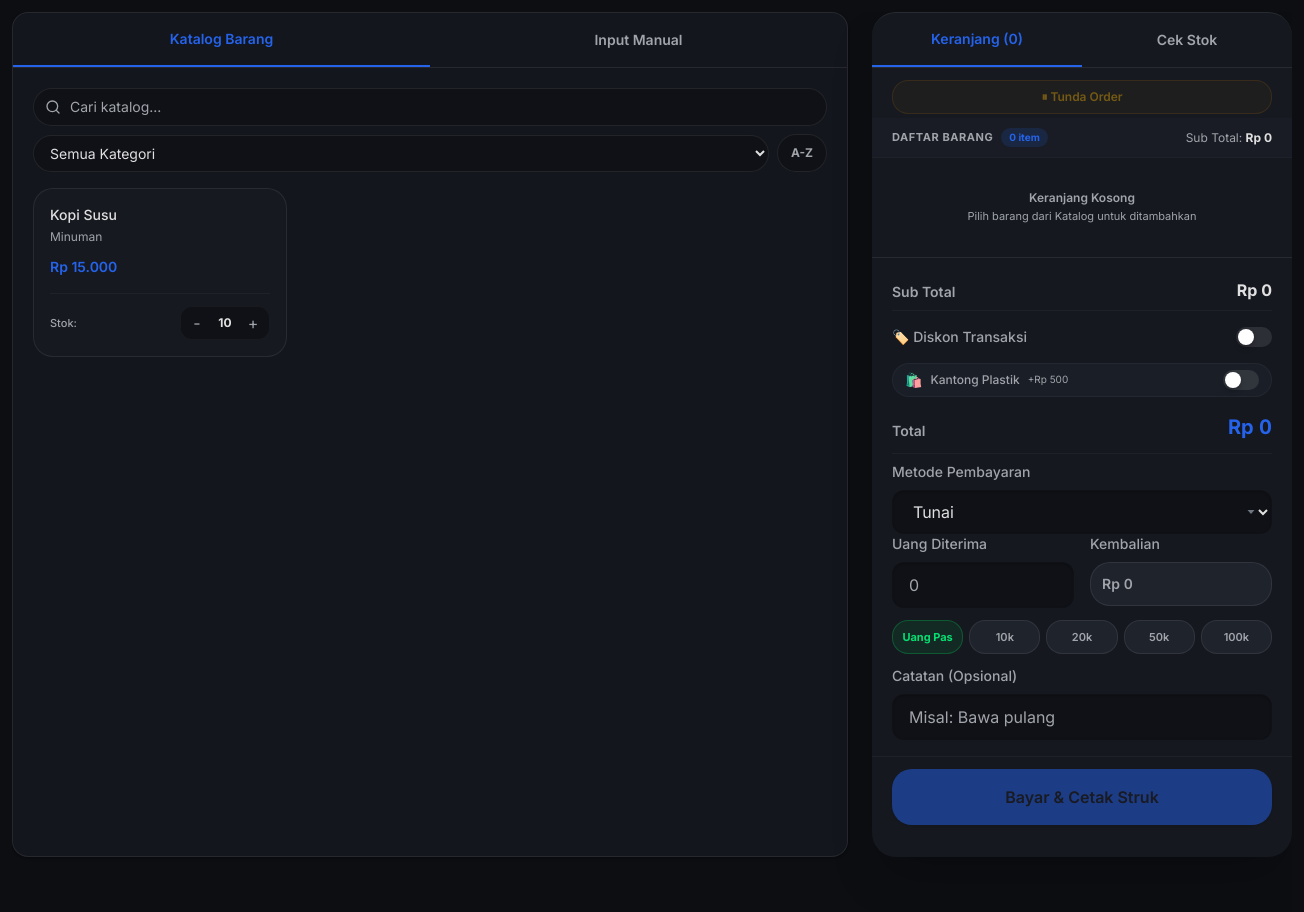
Scenario: InputPenjualan — Shopping Cart Flow › 2. Menggunakan Input Manual dan masuk ke Keranjang
# Pindah tab
Click the tab "Input Manual": click(638, 40) left=430, top=13, right=847, bottom=67
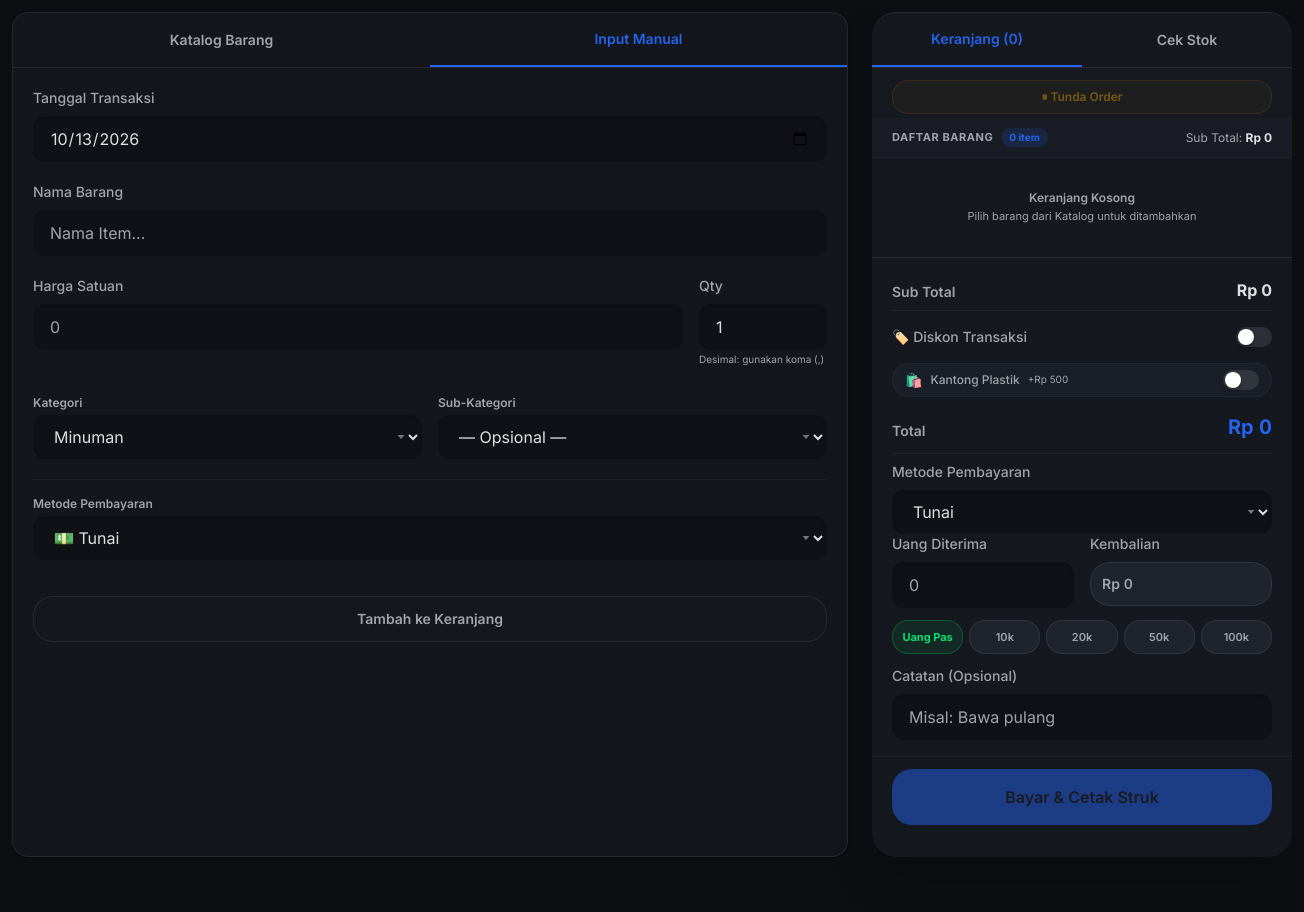
In the field with placeholder "Nama Item...": (430, 233) left=33, top=210, right=827, bottom=256, type "Roti Bakar"
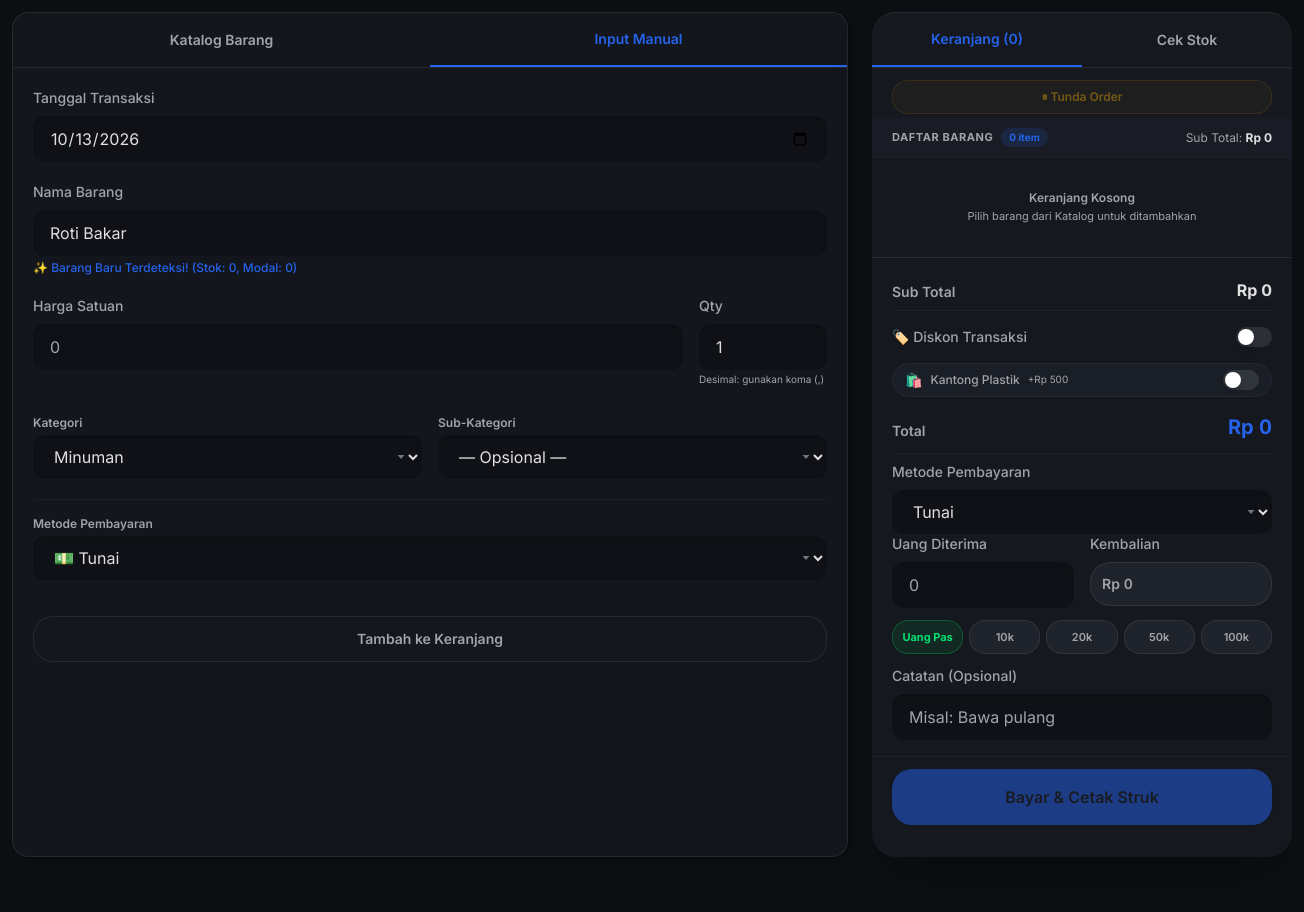
In the number field with placeholder "0": (358, 347) left=33, top=324, right=683, bottom=370, type "20000"
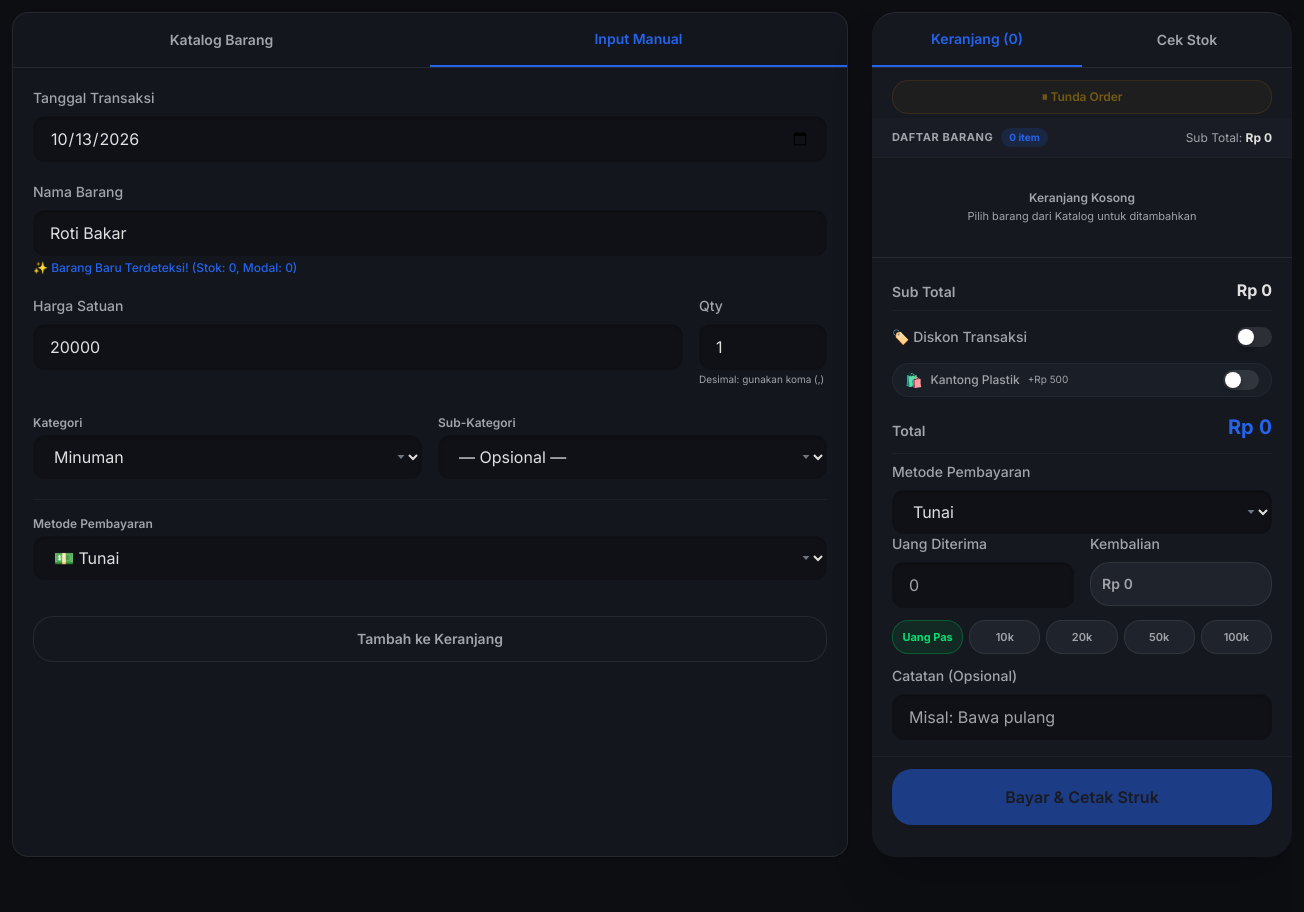
Click the button "Tambah ke Keranjang": click(430, 639) left=33, top=616, right=827, bottom=662
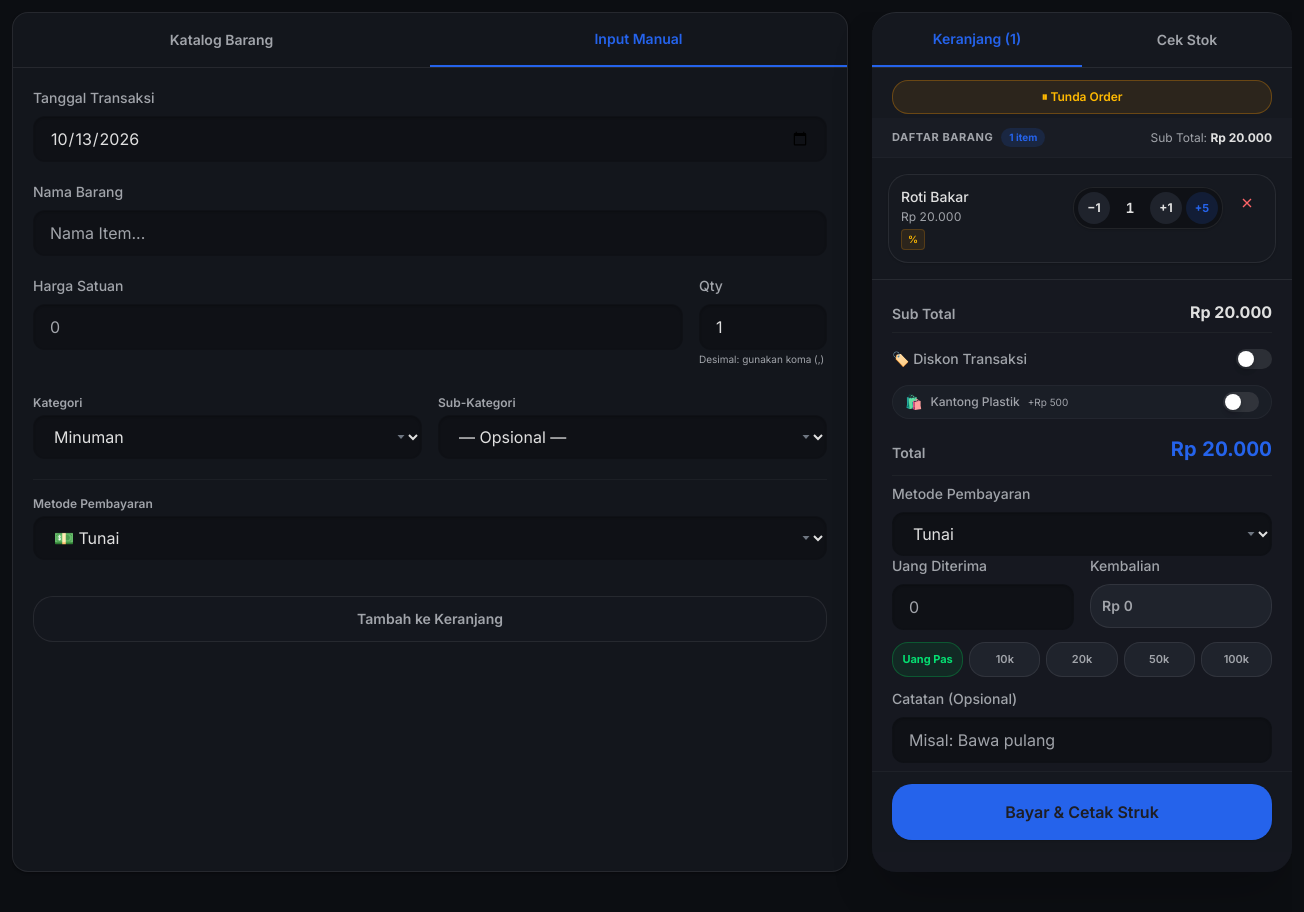
Now the text "Roti Bakar" is shown, box left=901, top=187, right=969, bottom=207
